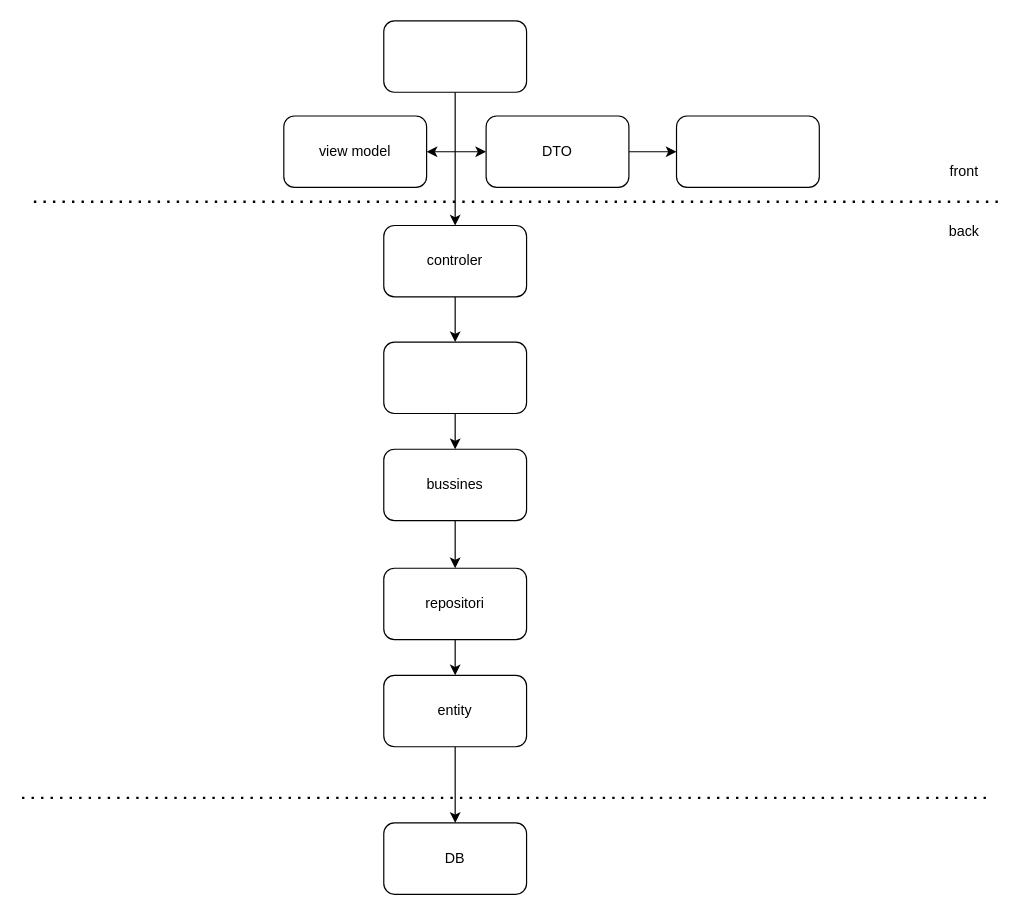
Image size: 1020x915. Some labels were removed from this diagram. The centre of each missing label's shape, as x and y in pixels:
request responsive: point (747, 151)
service: point (455, 377)
view: point (455, 56)
